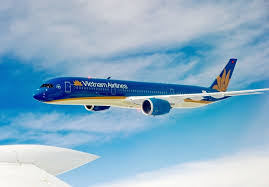maybay_dansu: (23, 54, 259, 117)
